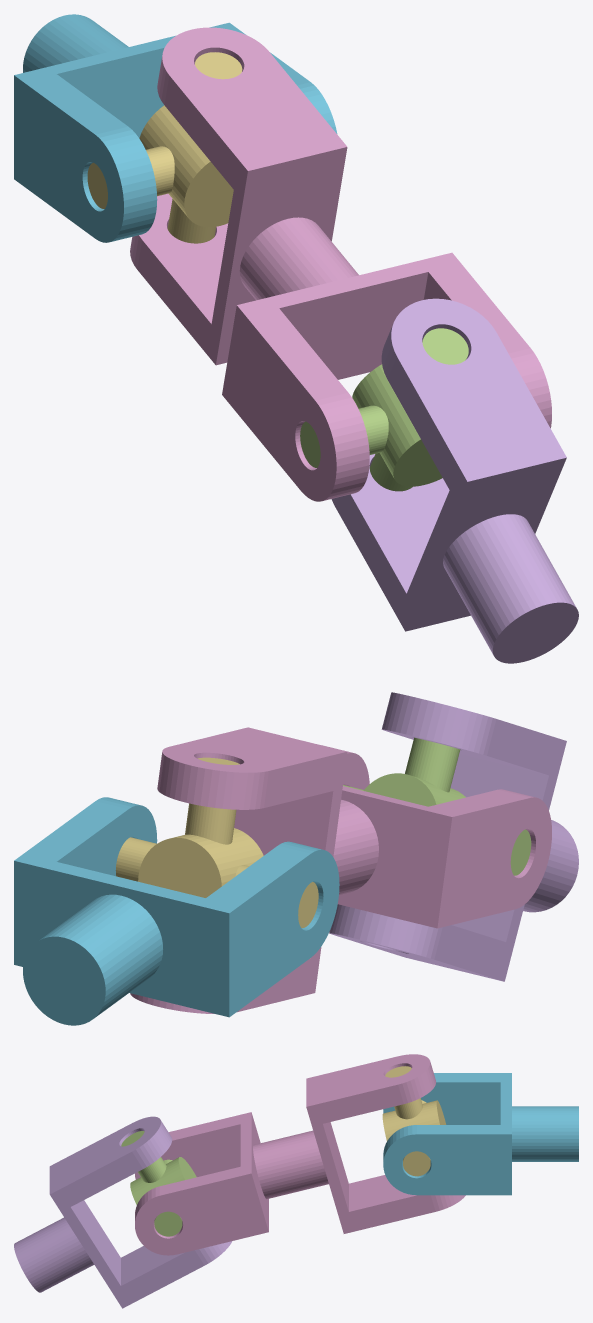
File: double_cardan_joint_demo.glb
3 renders of one model, top to bottom at view 1: azimuth 30°, elevation 25°; view 2: azimuth 150°, elevation 25°; view 3: azimuth 270°, elevation 25°, orthographic. The views are drawn at different scales.
Visible parts, largest first — view 1: cardan_intermediate, cardan_output_yoke, cardan_input_yoke, cardan_spider_in, cardan_spider_out; view 2: cardan_input_yoke, cardan_intermediate, cardan_output_yoke, cardan_spider_in, cardan_spider_out; view 3: cardan_intermediate, cardan_input_yoke, cardan_output_yoke, cardan_spider_out, cardan_spider_in.
Part boxes in pixels (<box>): cardan_intermediate: <box>130,27,551,501</box>; cardan_output_yoke: <box>331,298,578,663</box>; cardan_input_yoke: <box>14,14,337,242</box>; cardan_spider_in: <box>87,52,242,243</box>; cardan_spider_out: <box>300,328,468,491</box>; cardan_input_yoke: <box>14,797,339,1025</box>; cardan_intermediate: <box>130,727,551,1013</box>; cardan_output_yoke: <box>329,692,578,981</box>; cardan_spider_in: <box>115,757,318,928</box>; cardan_spider_out: <box>343,737,531,875</box>; cardan_intermediate: <box>135,1054,465,1255</box>; cardan_input_yoke: <box>383,1073,578,1195</box>; cardan_output_yoke: <box>14,1116,232,1308</box>; cardan_spider_out: <box>121,1131,196,1236</box>; cardan_spider_in: <box>382,1066,446,1176</box>.
Bounding box in the file's own units: 26 × 45.77 × 101.
